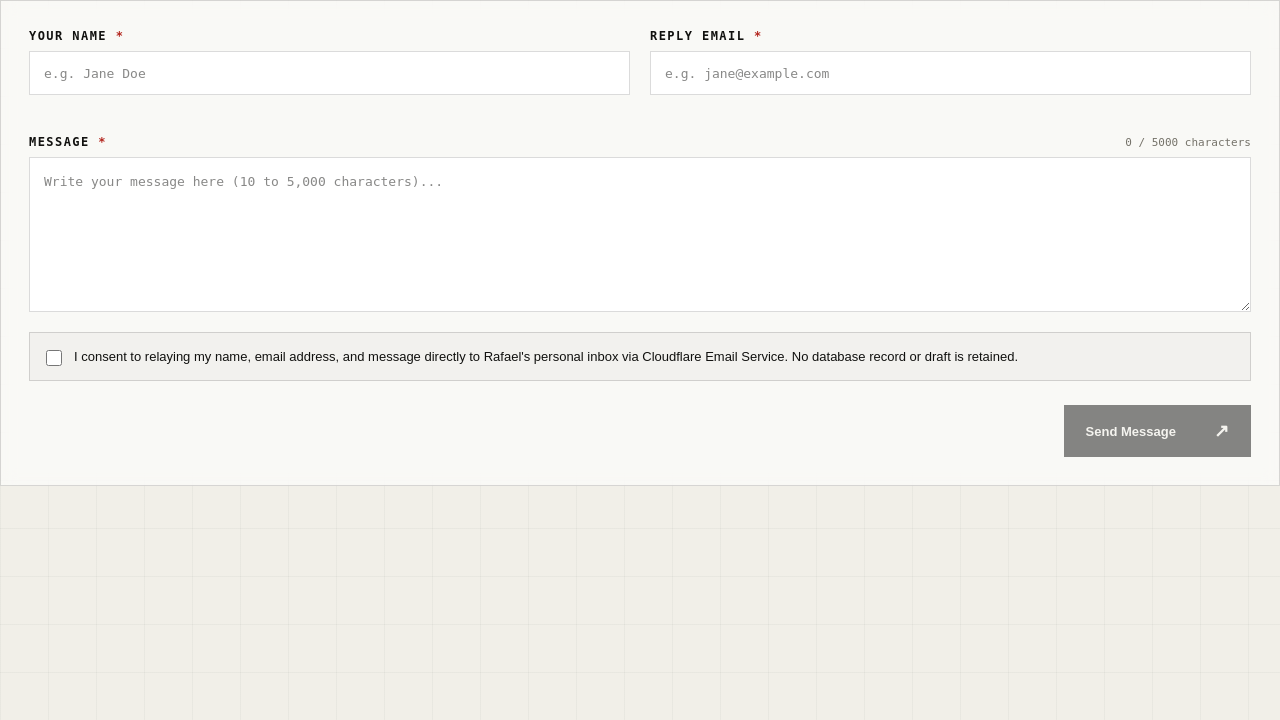
Test case: ContactForm flow with a fake network › shows a failure, not a queued message, for HTTP 200 with a failed status
In the field labelled "Your Name *": (330,73) [29,51,630,95], type "Jane Doe"
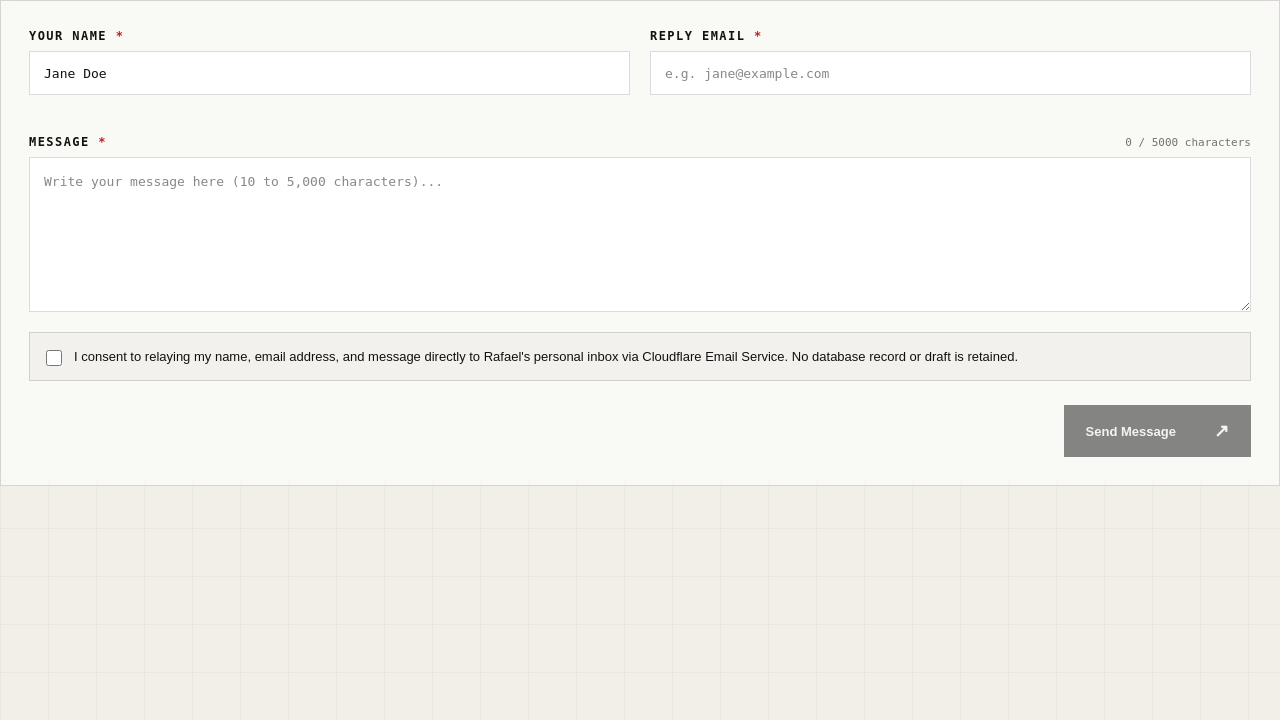
In the field labelled "Reply Email *": (950,73) [650,51,1251,95], type "jane@example.com"
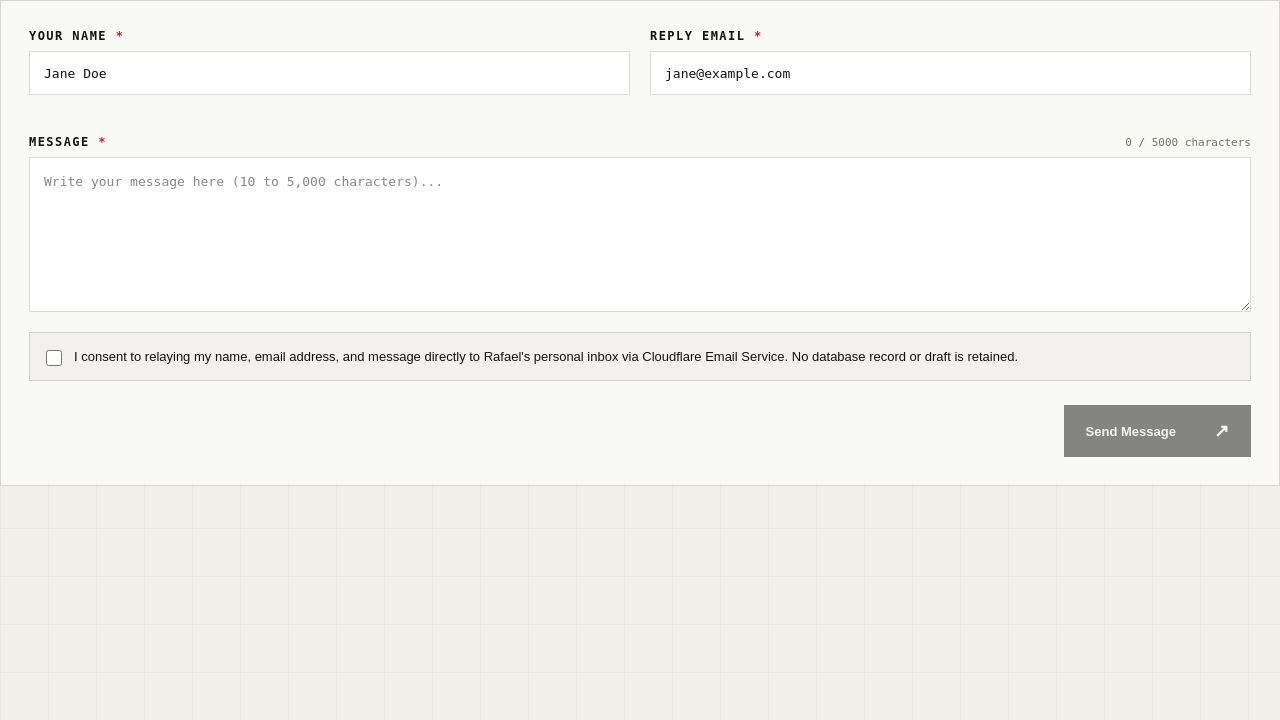
In the text box labelled "Message *": (640,234) [29,157,1251,312], type "Hello Rafael, inquiry about your work."
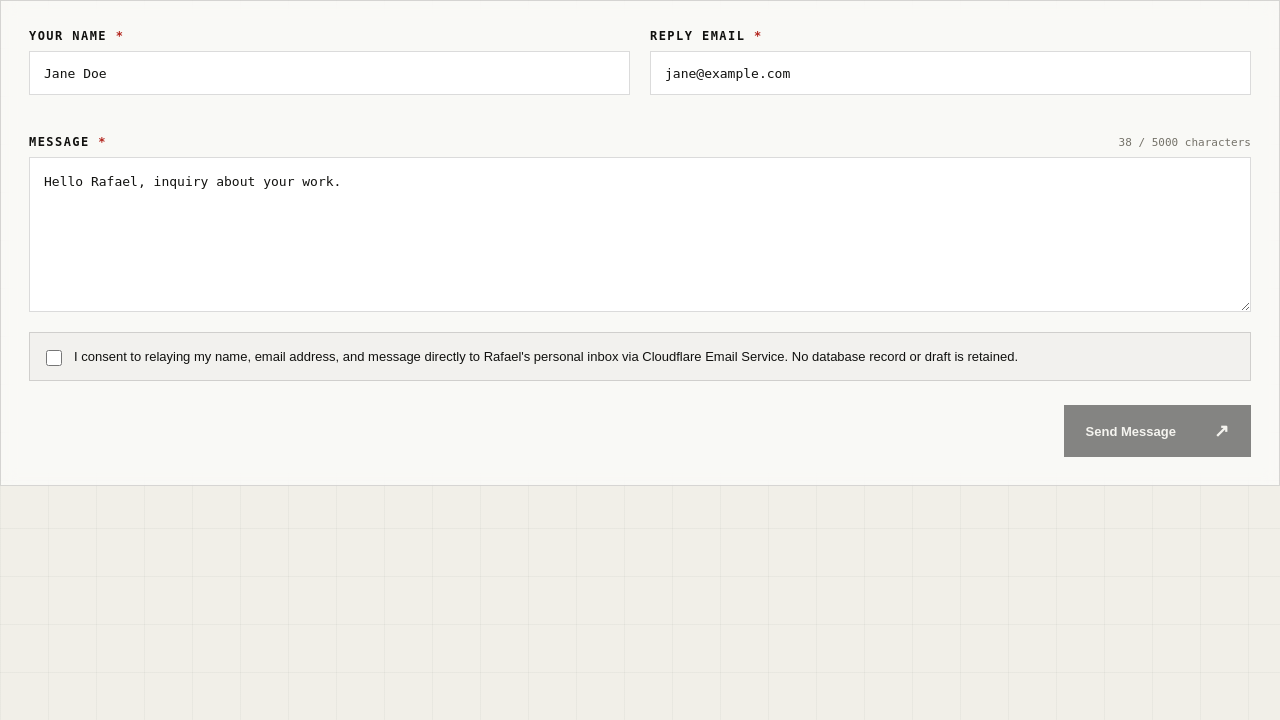
Click the checkbox: (54,358) [46,350,62,366]
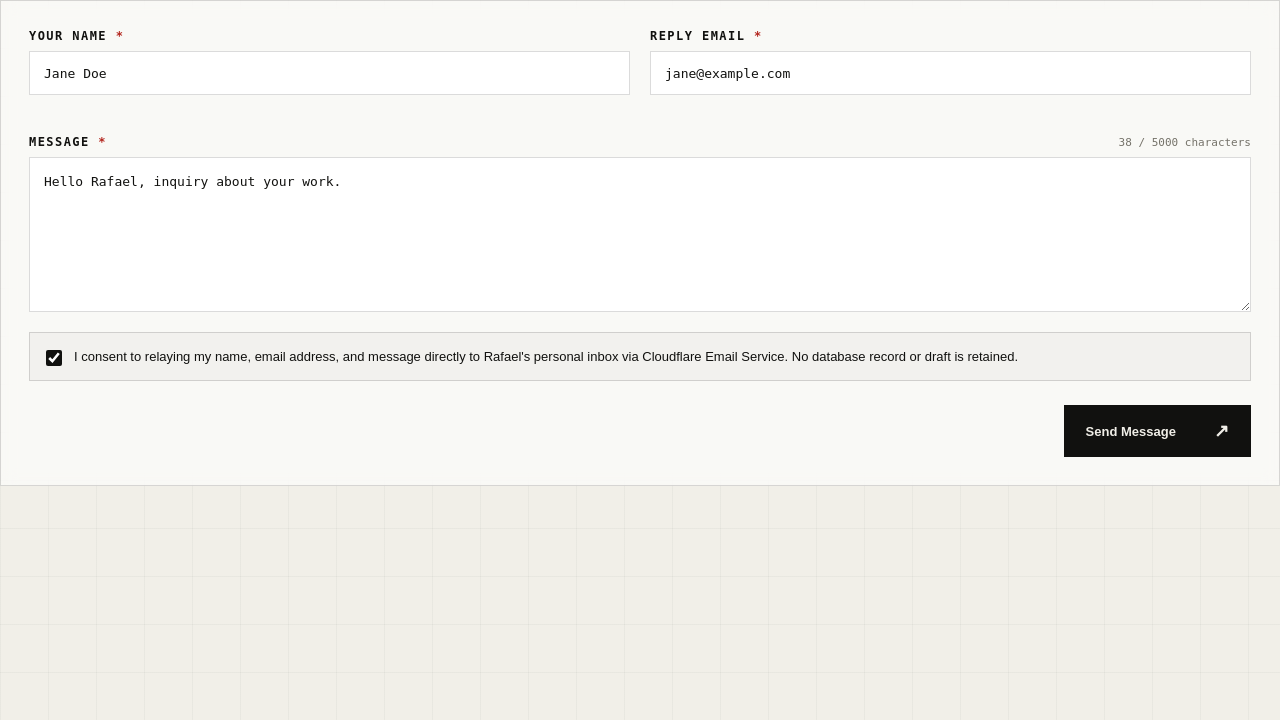
Click the button "Send Message ↗": (1157,431) [1064,405,1251,457]
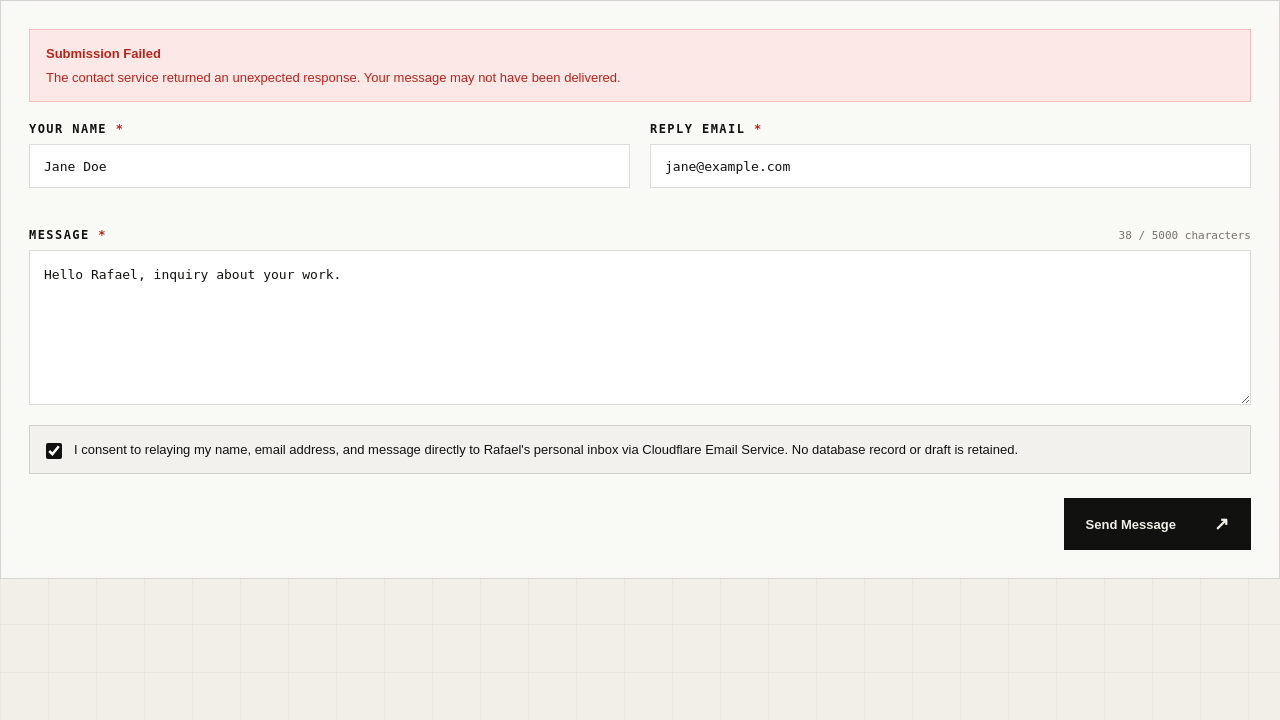
Result: the text "Submission Failed" is shown at [46,46,161,61]
Result: the text "unexpected response" is shown at [46,70,620,84]
